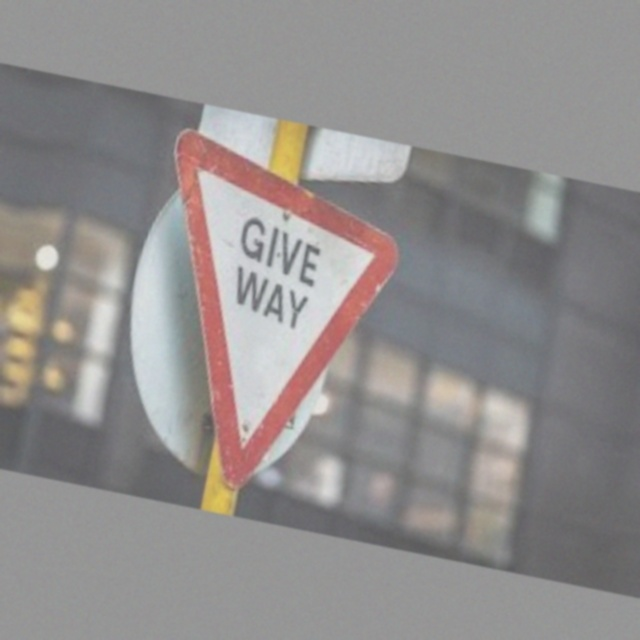Give_Way: (119, 132, 413, 512)
